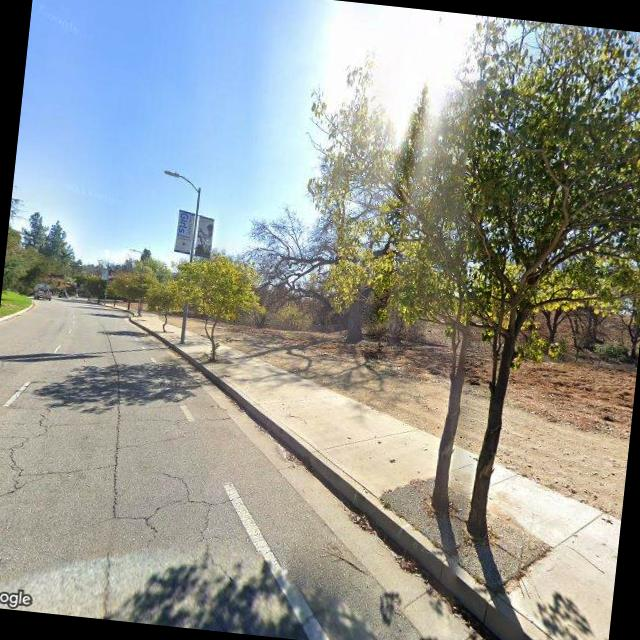crack: (0, 367, 261, 630)
